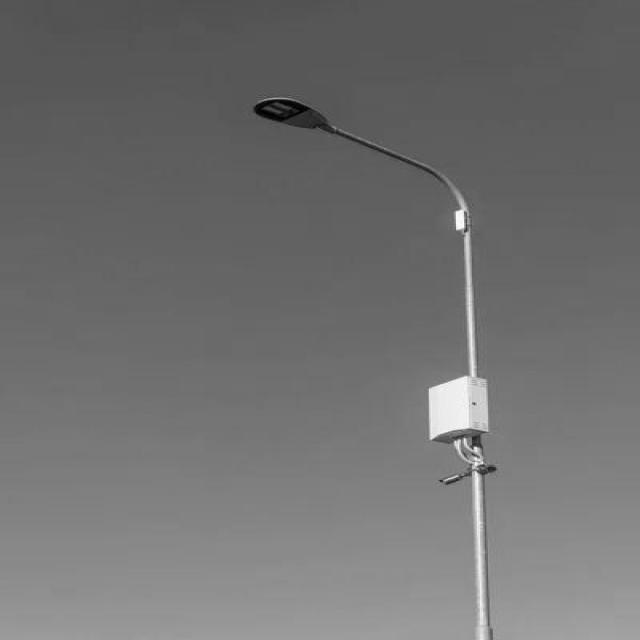Pole: (254, 97, 496, 640)
